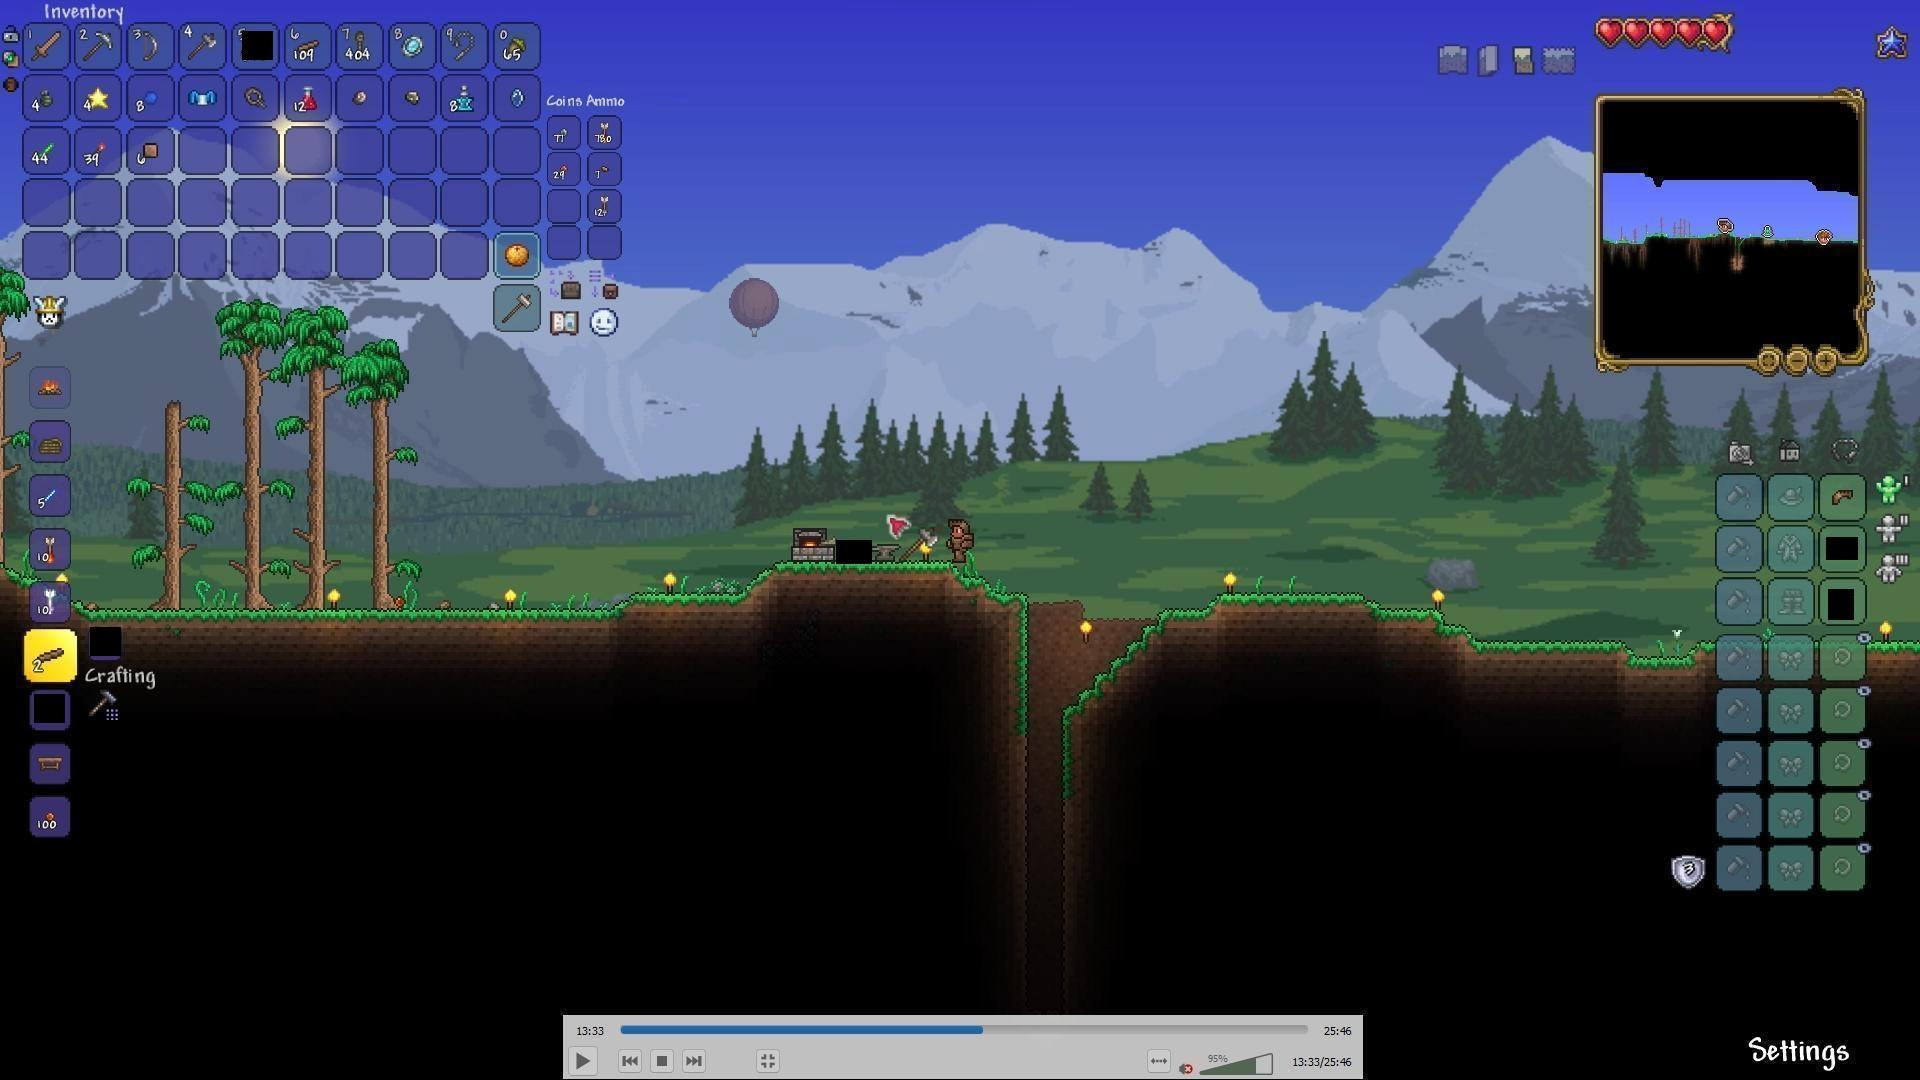helmet: (1825, 480, 1859, 512)
workbench: (32, 752, 67, 778)
